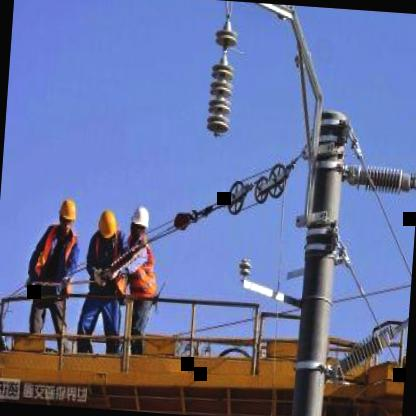helmet: (95, 205, 122, 247), (128, 201, 152, 246), (57, 193, 80, 238)
